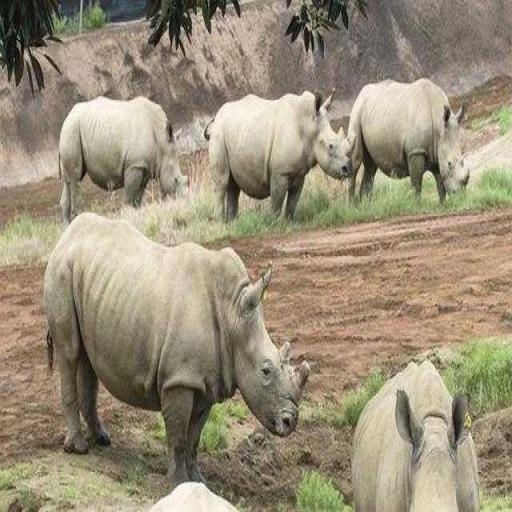Rhino: (42, 210, 310, 488), (203, 87, 352, 223), (350, 357, 480, 511), (58, 93, 188, 227), (342, 76, 470, 208)
